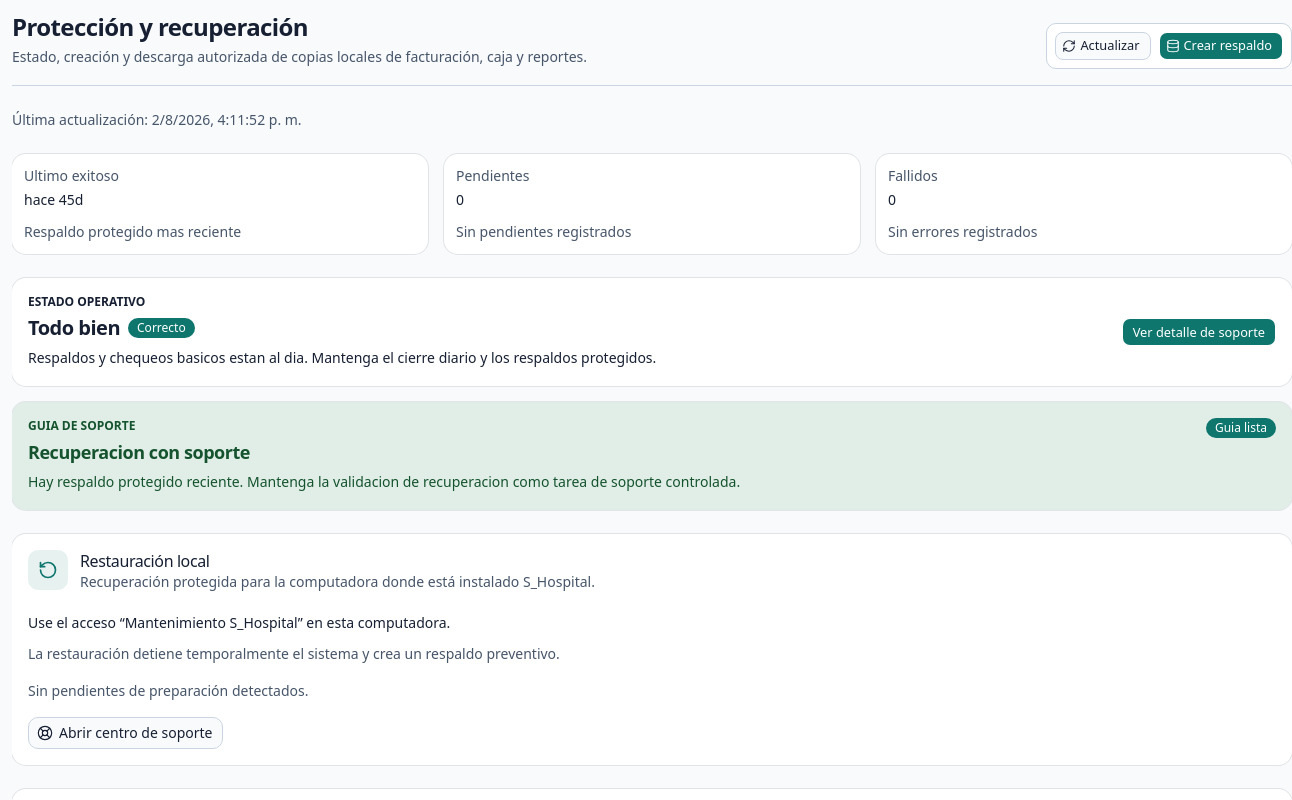
Test case: BackupsView › keeps automatic backup scheduler diagnostics behind support details
Expected: the heading "Todo bien" is shown, 28,314 -> 120,342
Expected: the text "respaldos automaticos sin ejecucion registrada" is not shown
Click the button "Ver detalle de soporte".
click(1199, 332)  # box 1122,318 -> 1276,346
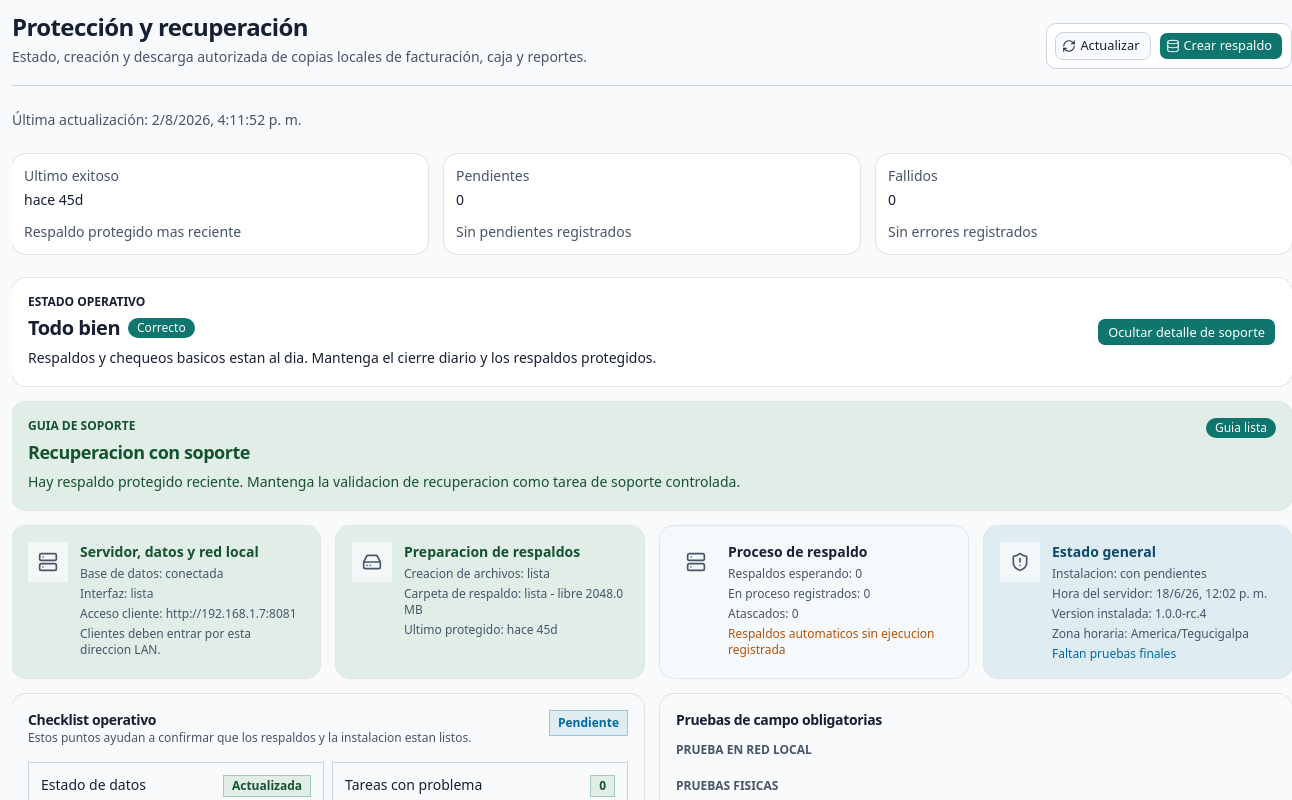
Now the text "Respaldos automaticos sin ejecucion registrada" is shown, box 728,626 -> 952,658
